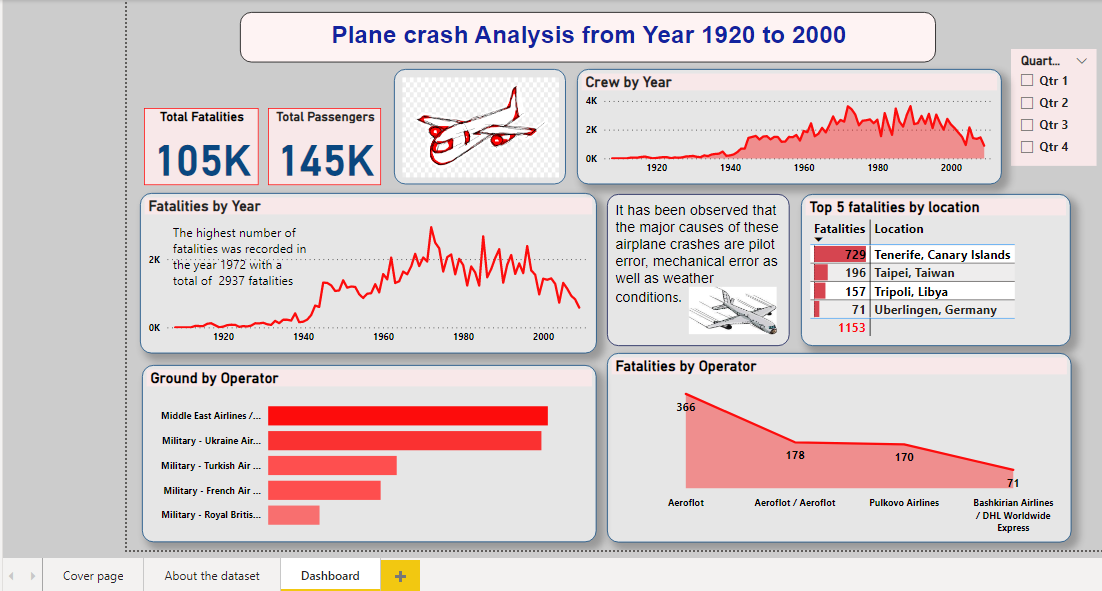

The page's visual inventory and layout, read from the dashboard file:
{"tool":"powerbi","page":{"name":"Dashboard","canvas":[1280,720],"ordinal":2},"visuals":[{"type":"tableEx","title":"Top 5 fatalities by location","fields":{"Values":["Sum(Airplane_Crashes_and_Fatalities_Since_1908.Fatalities)","Airplane_Crashes_and_Fatalities_Since_1908.Location"]},"box":[882.7,253.4,352.8,198.7],"z":0},{"type":"areaChart","fields":{"Category":["Airplane_Crashes_and_Fatalities_Since_1908.Operator"],"Y":["Sum(Airplane_Crashes_and_Fatalities_Since_1908.Fatalities)"]},"box":[627.8,462.2,607.7,247.7],"z":1000},{"type":"lineChart","fields":{"Y":["Sum(Airplane_Crashes_and_Fatalities_Since_1908.Fatalities)"],"Category":["Airplane_Crashes_and_Fatalities_Since_1908.Date.Variation.Date Hierarchy.Year"]},"box":[17.3,252,597.6,210.2],"z":2000},{"type":"clusteredBarChart","fields":{"Y":["Sum(Airplane_Crashes_and_Fatalities_Since_1908.Ground)"],"Category":["Airplane_Crashes_and_Fatalities_Since_1908.Operator"]},"box":[20.2,478.1,594.7,231.8],"z":3000},{"type":"slicer","fields":{"Values":["Airplane_Crashes_and_Fatalities_Since_1908.Date.Variation.Date Hierarchy.Quarter"]},"box":[1157.8,64.8,112.3,152.6],"z":4000},{"type":"card","title":"Total Fatalities","fields":{"Values":["Sum(Airplane_Crashes_and_Fatalities_Since_1908.Fatalities)"]},"box":[21.6,141.1,149.8,100.8],"z":6000},{"type":"card","title":"Total Passengers","fields":{"Values":["Sum(Airplane_Crashes_and_Fatalities_Since_1908.Aboard)"]},"box":[184.3,141.1,148.3,100.8],"z":7000},{"type":"image","box":[349.9,90.7,224.6,151.2],"z":8000},{"type":"textbox","box":[148.6,15.7,911.4,65.7],"z":9000},{"type":"textbox","box":[21.4,268.6,408.6,5.7],"z":10000},{"type":"textbox","box":[54.7,288,187.2,106.6],"z":11000},{"type":"areaChart","title":"Crew by Year","fields":{"Category":["Airplane_Crashes_and_Fatalities_Since_1908.Date.Variation.Date Hierarchy.Year"],"Y":["Sum(Airplane_Crashes_and_Fatalities_Since_1908.Aboard)"]},"box":[589,90.7,555.8,151.2],"z":12000},{"type":"textbox","box":[627.8,253.4,239,198.7],"z":12001},{"type":"image","box":[730.1,370.1,125.3,72],"z":12002}]}

Visuals, with their boxes on the page's 1280x720 design canvas (x1, y1, x2, y2). These are canvas units, not pixel positions in the 1102x591 screenshot, which may show the page scaled, cropped or inside an application window:
"Top 5 fatalities by location" tableEx: detection(883, 253, 1236, 452)
areaChart - Airplane_Crashes_and_Fatalities_Since_1908.Operator x Sum(Airplane_Crashes_and_Fatalities_Since_1908.Fatalities): detection(628, 462, 1236, 710)
lineChart - Sum(Airplane_Crashes_and_Fatalities_Since_1908.Fatalities) x Airplane_Crashes_and_Fatalities_Since_1908.Date.Variation.Date Hierarchy.Year: detection(17, 252, 615, 462)
clusteredBarChart - Sum(Airplane_Crashes_and_Fatalities_Since_1908.Ground) x Airplane_Crashes_and_Fatalities_Since_1908.Operator: detection(20, 478, 615, 710)
slicer - Airplane_Crashes_and_Fatalities_Since_1908.Date.Variation.Date Hierarchy.Quarter: detection(1158, 65, 1270, 217)
"Total Fatalities" card: detection(22, 141, 171, 242)
"Total Passengers" card: detection(184, 141, 333, 242)
image: detection(350, 91, 574, 242)
textbox: detection(149, 16, 1060, 81)
textbox: detection(21, 269, 430, 274)
textbox: detection(55, 288, 242, 395)
"Crew by Year" areaChart: detection(589, 91, 1145, 242)
textbox: detection(628, 253, 867, 452)
image: detection(730, 370, 855, 442)
